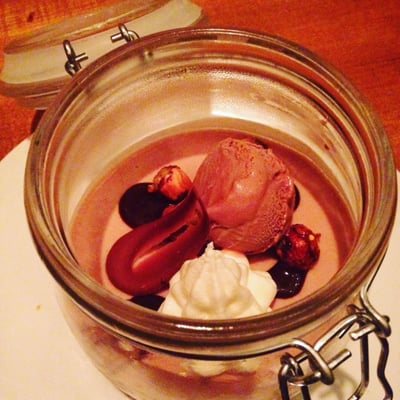sushi: (15, 13, 399, 389)
